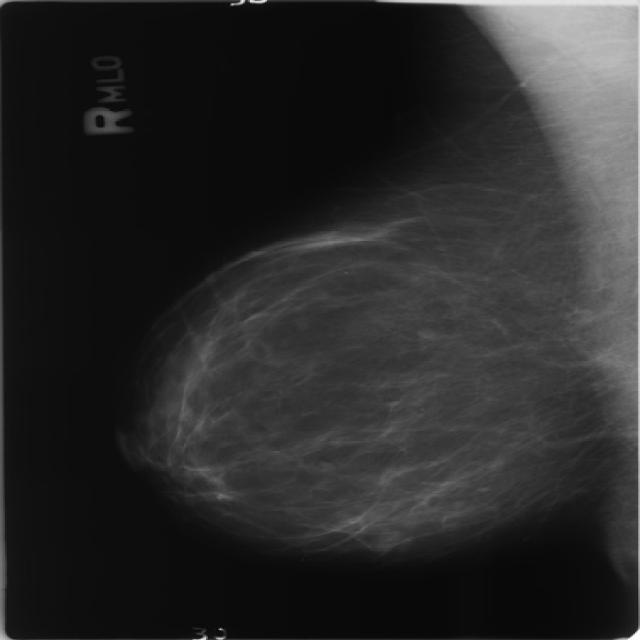tumour: (371, 527, 397, 553)
